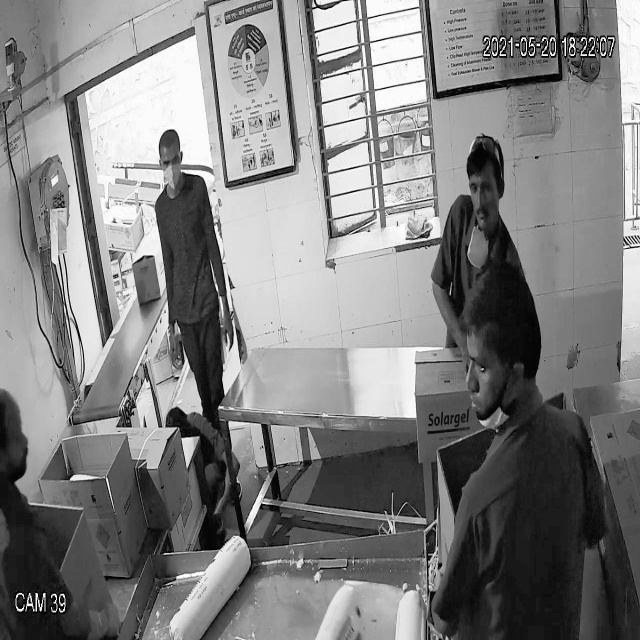Sin_gafas: (466, 345, 526, 388), (465, 171, 506, 207)
